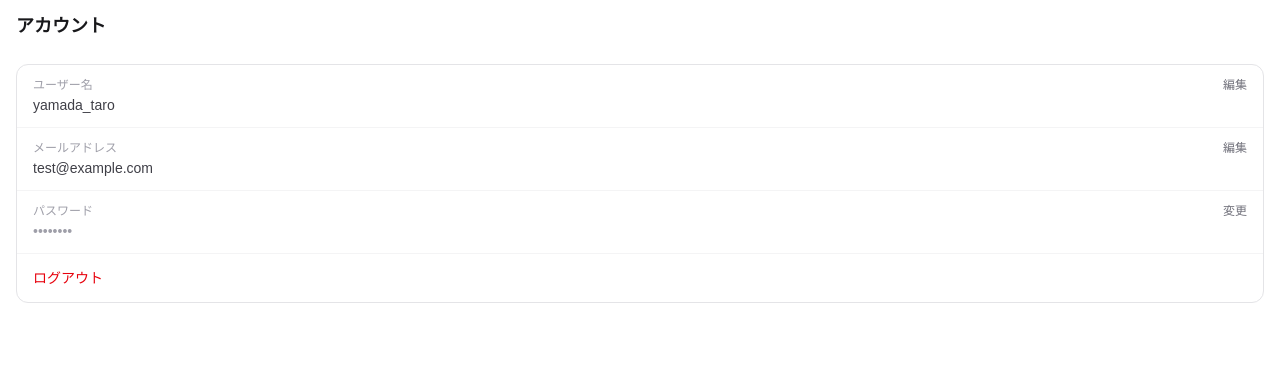
Scenario: AccountTab › ユーザー名フォームでキャンセルをクリックするとフォームが閉じる
The width and height of the screenshot is (1281, 372).
Click the button with aria-label "ユーザー名を編集".
click(1235, 85)  # box [1223,77,1247,93]
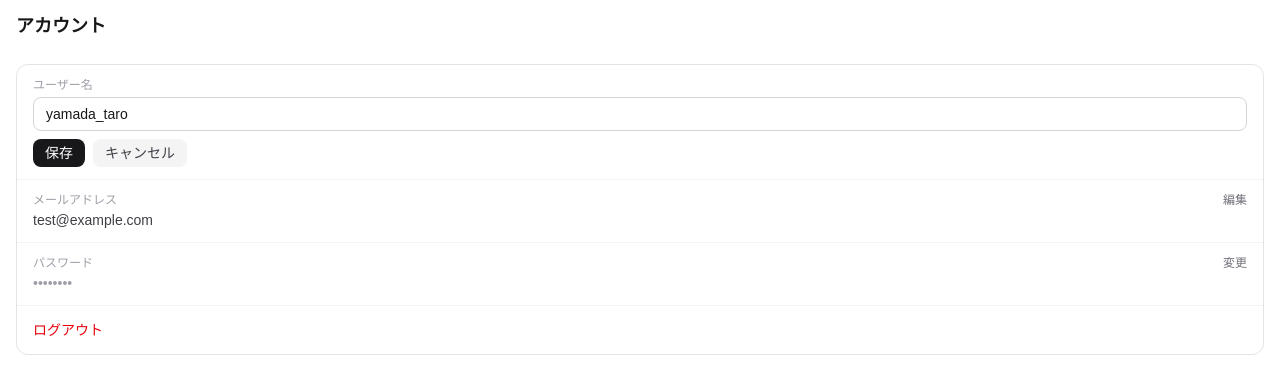
Click the button "キャンセル".
click(140, 153)  # box [93,139,187,167]
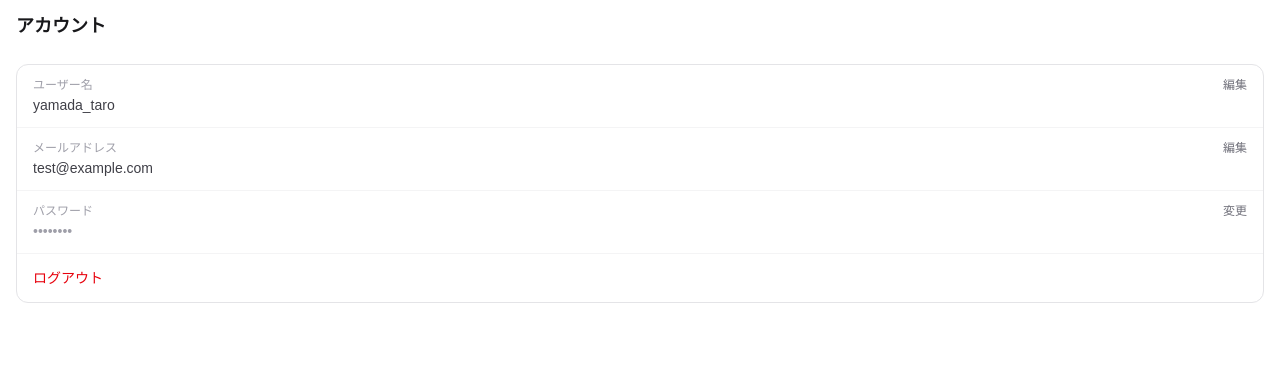
Expected: the field labelled "ユーザー名入力" is gone
